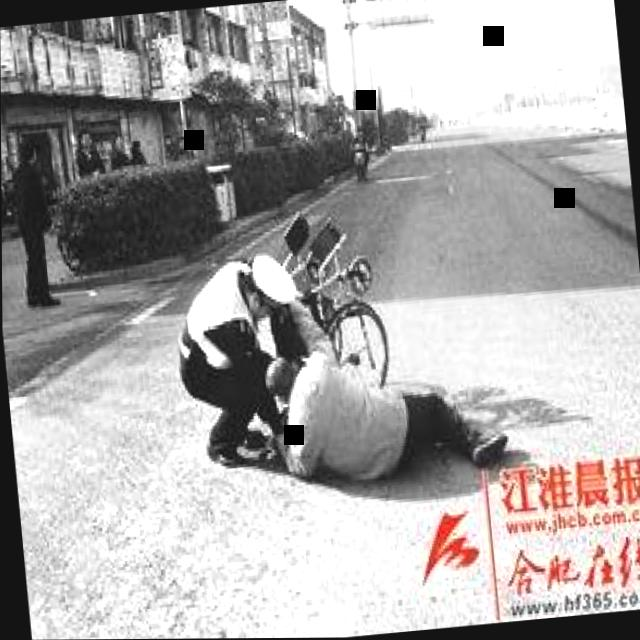Fall-Detected: (251, 313, 520, 507)
